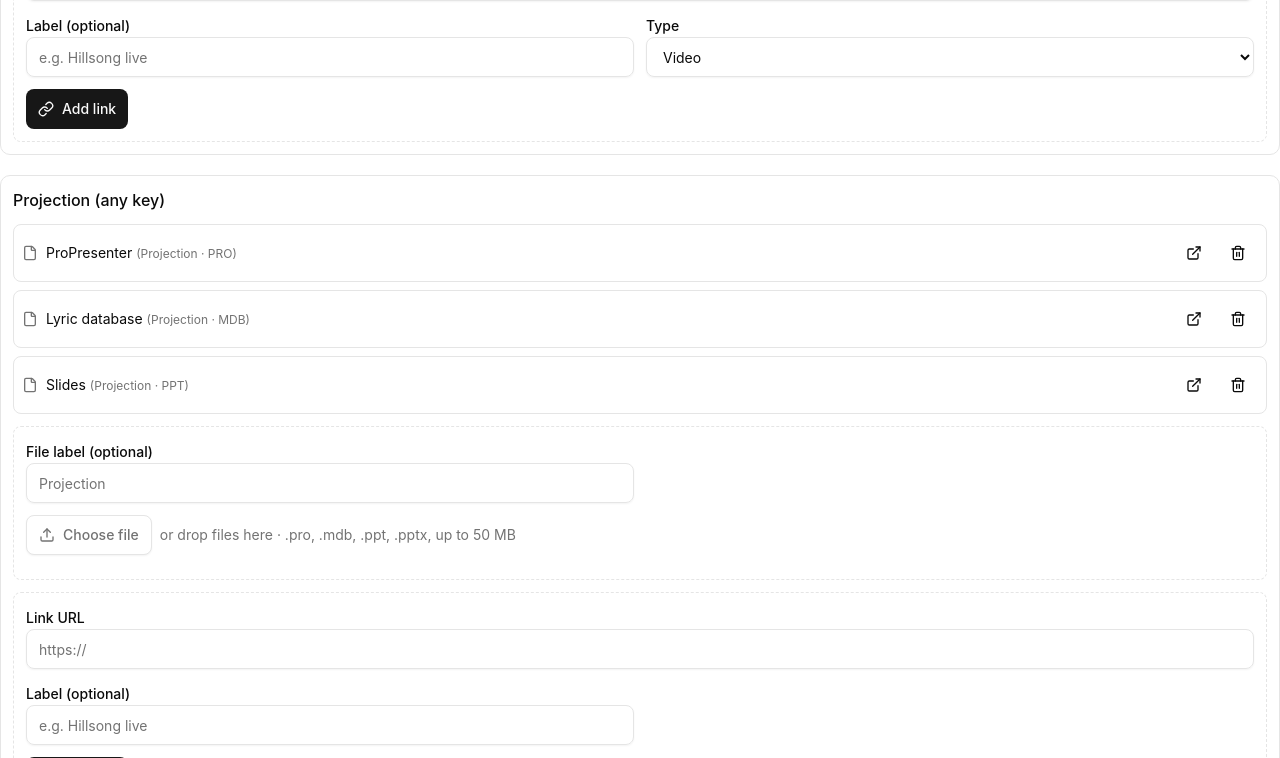
ResourcesSection › keeps a resource when delete fails
(page scrolled)
Click the button named "Delete Slides".
click(1238, 385)  # box [1218,365,1258,405]
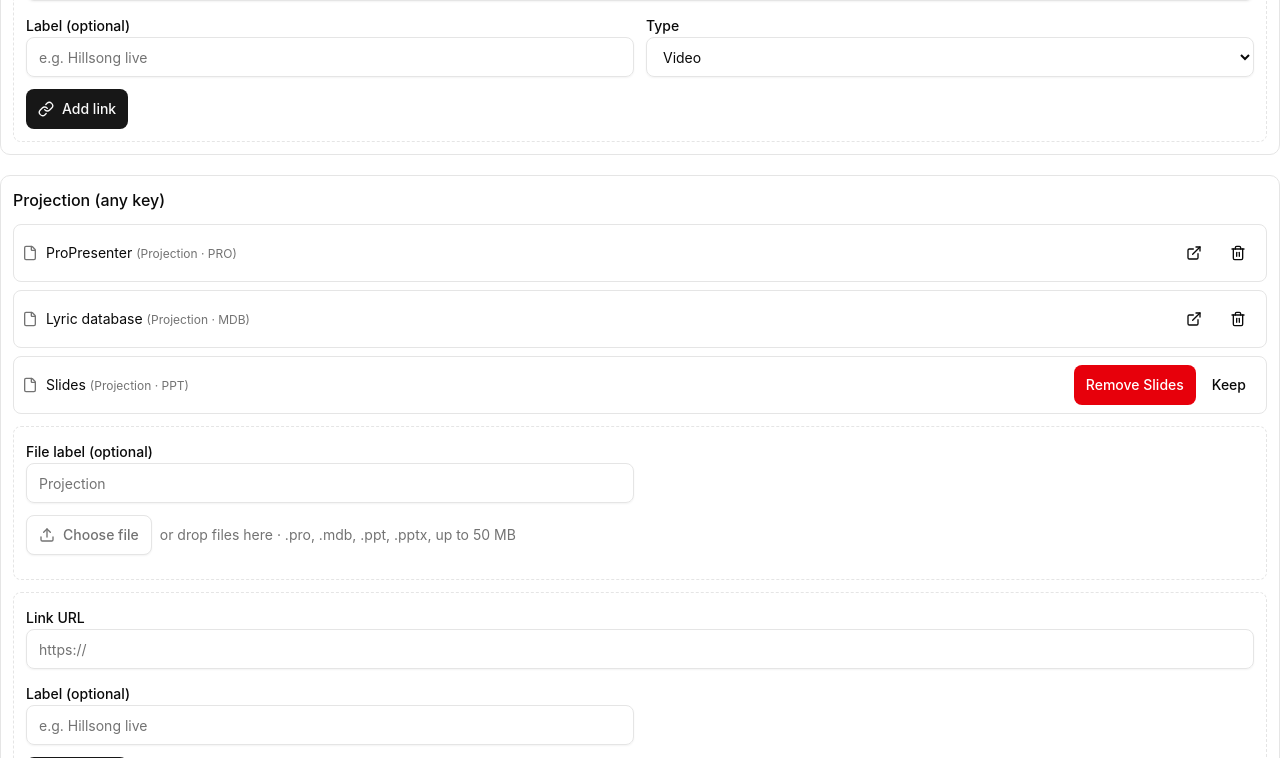
Click the button "Remove Slides".
click(1135, 385)  # box [1074,365,1196,405]
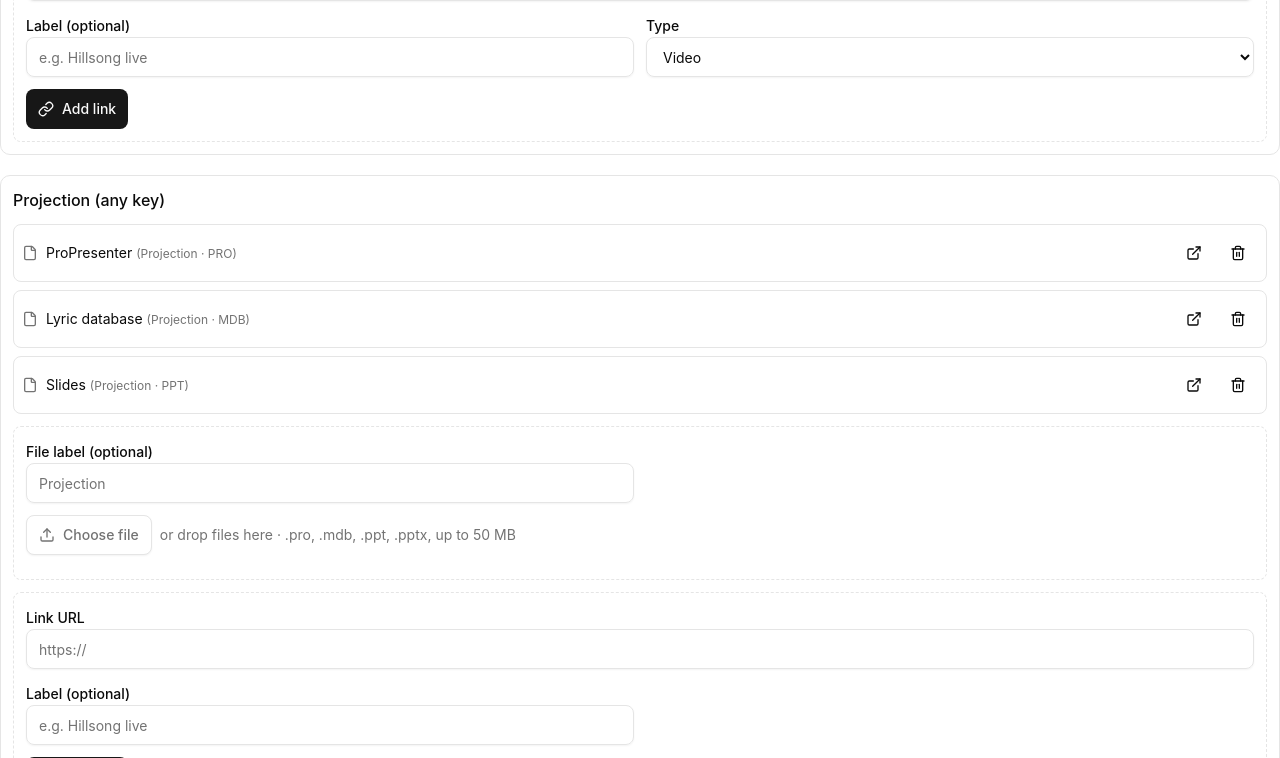
Expected: the button named "Delete Slides" is shown, [1218,365,1258,405]
